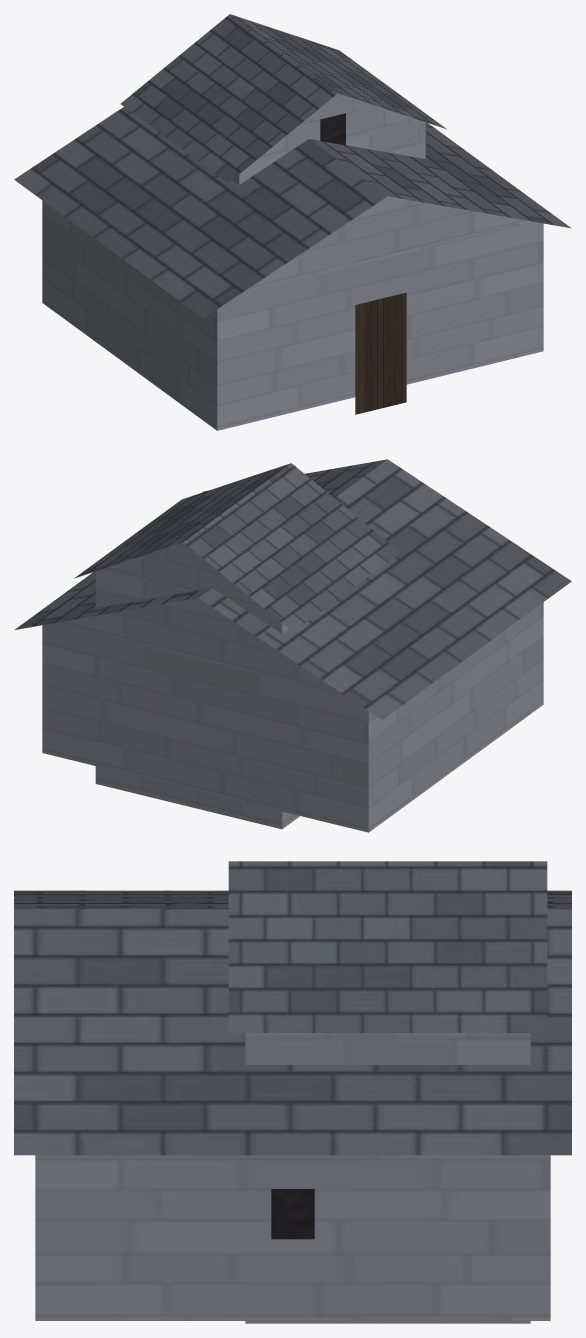
Rendered from ae_snow_stone_large_terrace_lod2.glb.
3 views of the same model, one above another, from view 1: azimuth 30°, elevation 25°; view 2: azimuth 150°, elevation 25°; view 3: azimuth 270°, elevation 25° (orthographic). The views are drawn at different scales.
Visible parts, largest first — view 1: ae_snow_stone_large_terrace_lod2; view 2: ae_snow_stone_large_terrace_lod2; view 3: ae_snow_stone_large_terrace_lod2.
Boxes of the visible parts, box(x1,y1,x2,y2) form: ae_snow_stone_large_terrace_lod2: box(14, 14, 571, 430); ae_snow_stone_large_terrace_lod2: box(15, 459, 571, 832); ae_snow_stone_large_terrace_lod2: box(14, 861, 571, 1323).
Size of the model in its own units: 7.9 by 5.5 by 7.04.
Materials: 1 (1 with a texture image).
